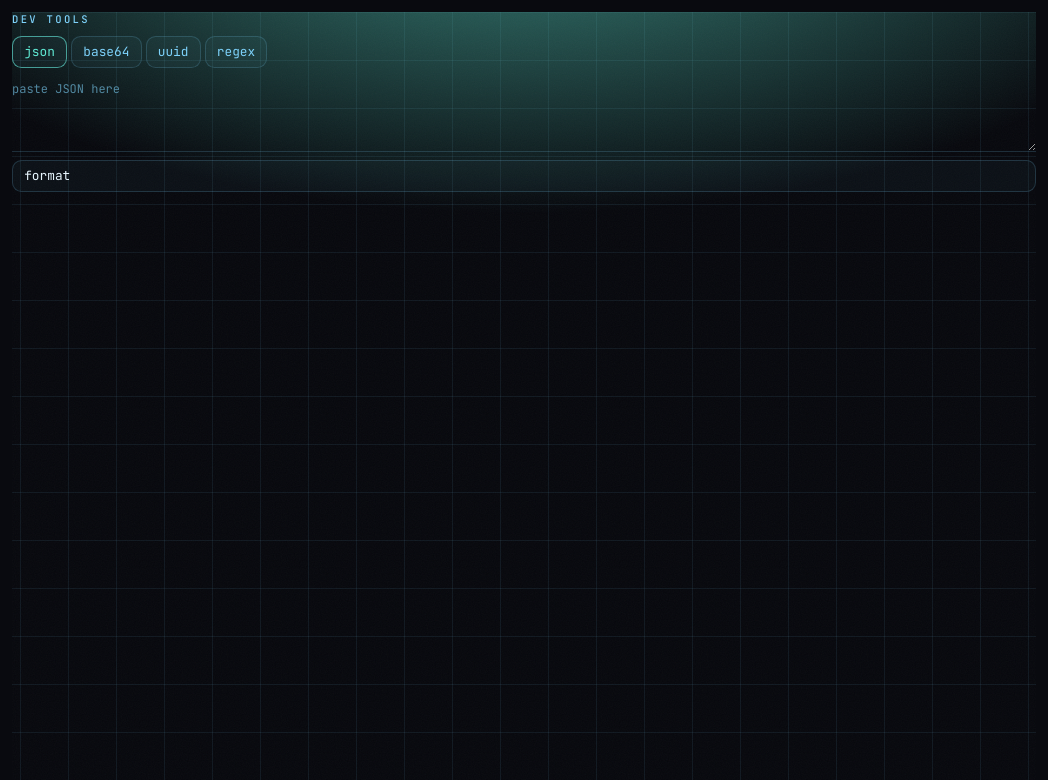
Test case: DevToolsWidget › T-WDGT-09e: Regex tab — match result shows "hello"
Click the button "regex": (236, 52) [205,36,267,68]
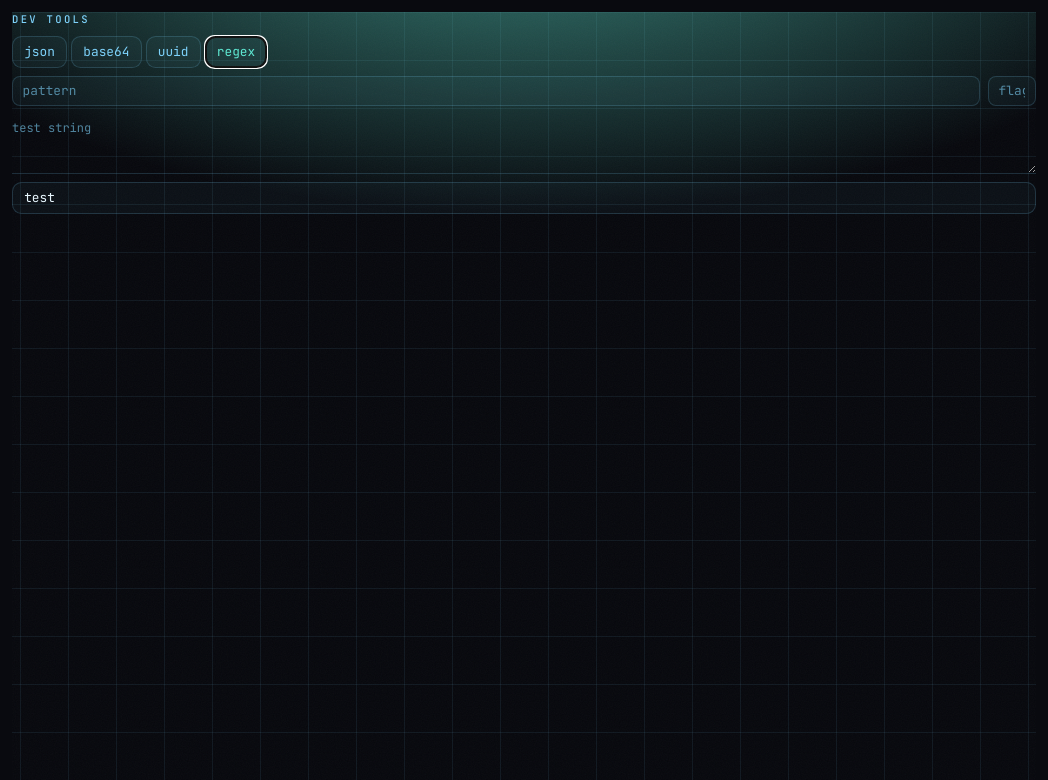
In the field with placeholder "pattern": (496, 91) [12,76,980,106], type "hel+o"
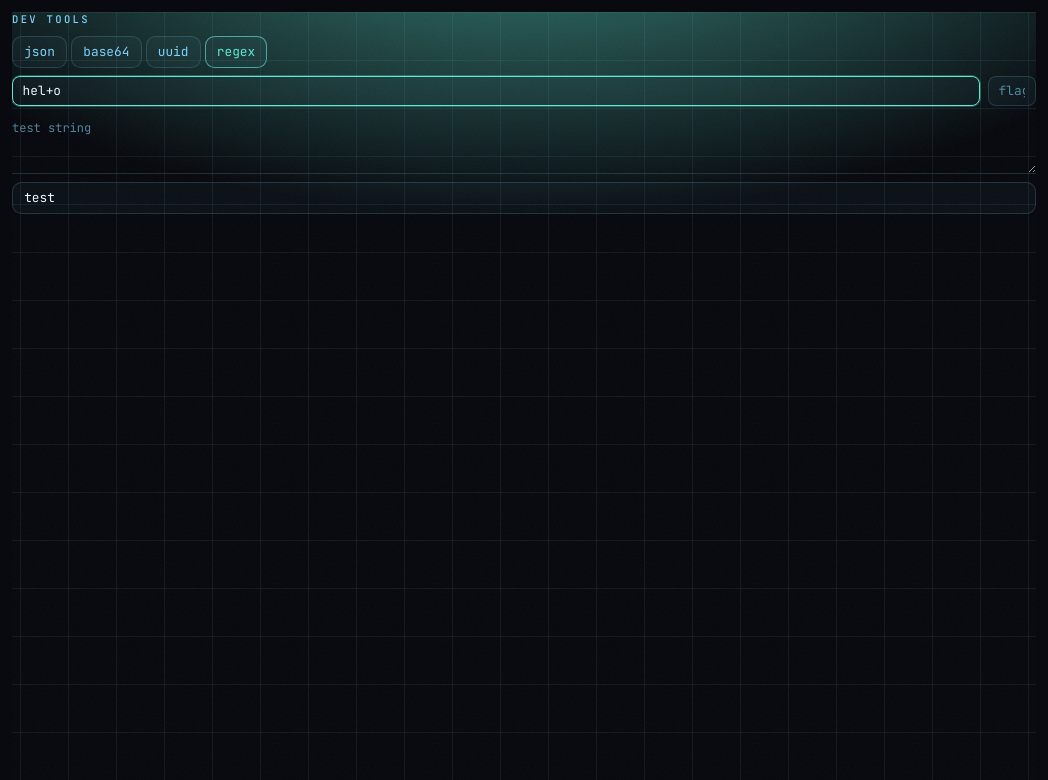
In the text box with placeholder "test string": (524, 144) [12,114,1036,174], type "hello world"
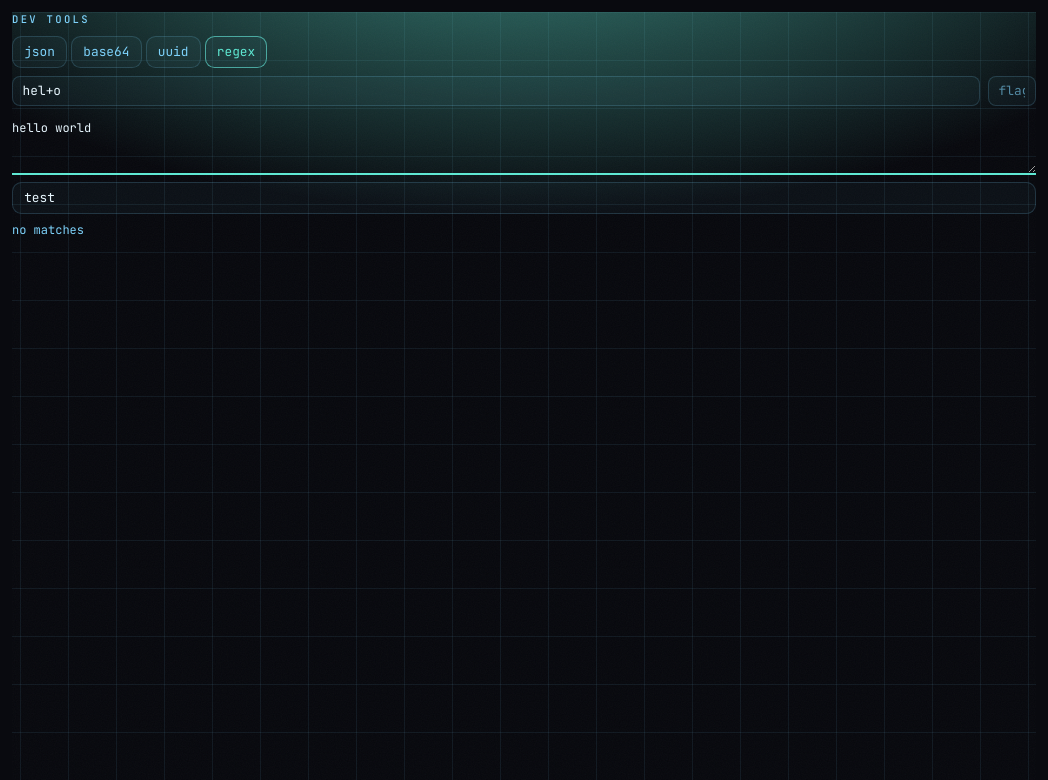
Click the button "test": (40, 198) [12,182,1036,214]
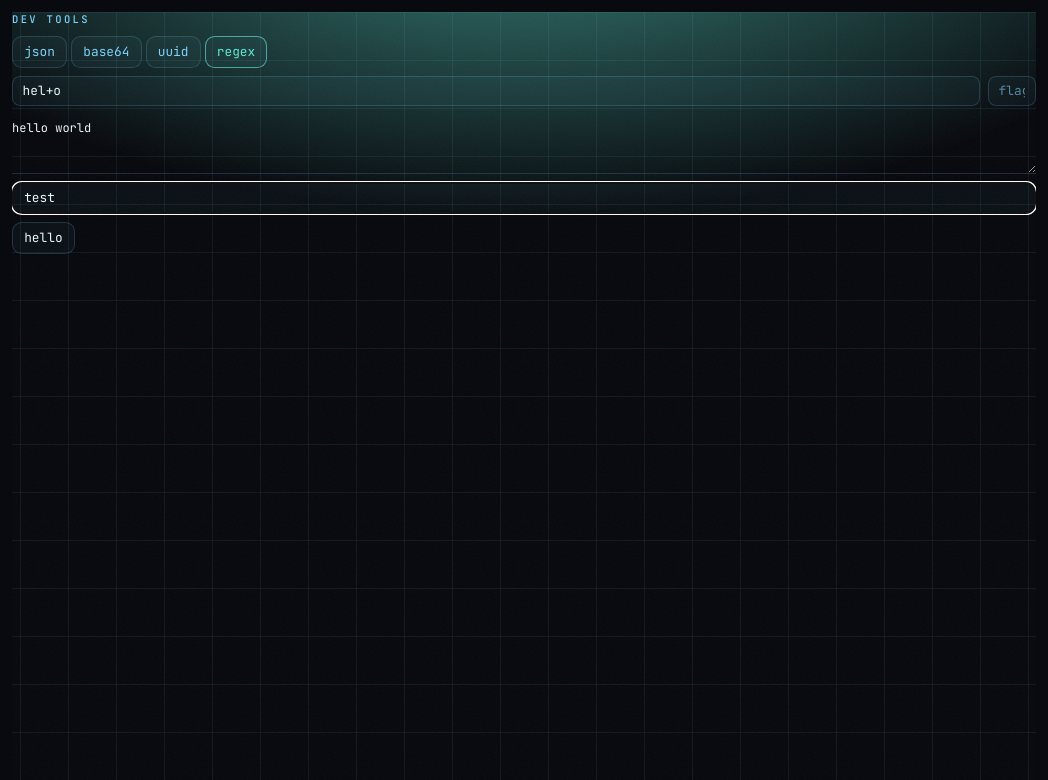
Now the text "hello" is shown, box [12,222,75,254]
